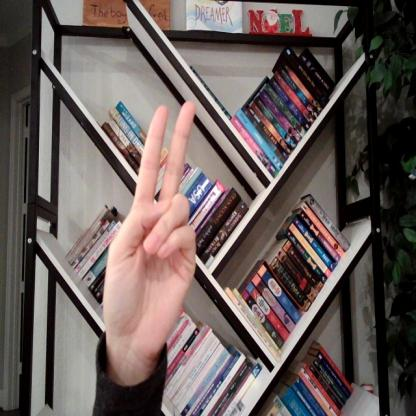two: (106, 92, 200, 349)
